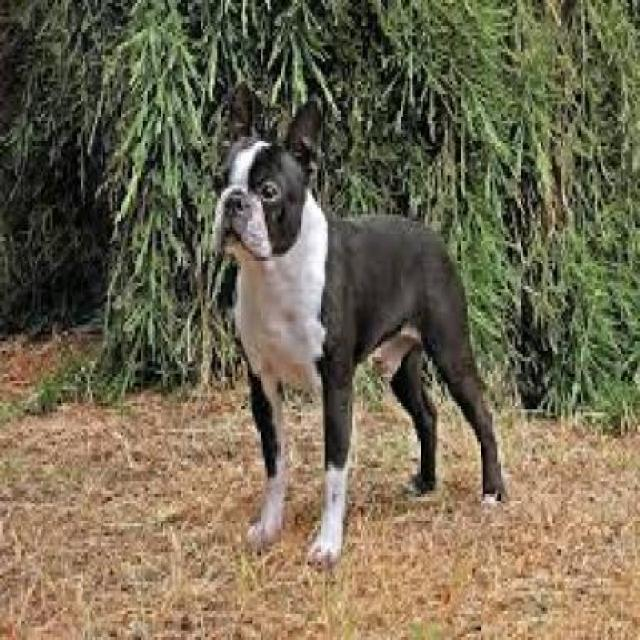animals: (210, 76, 508, 542)
